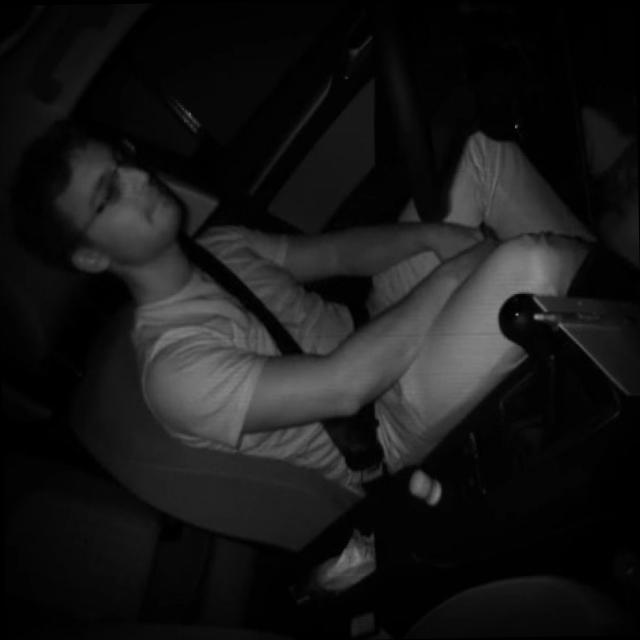pen: (532, 308, 640, 326)
